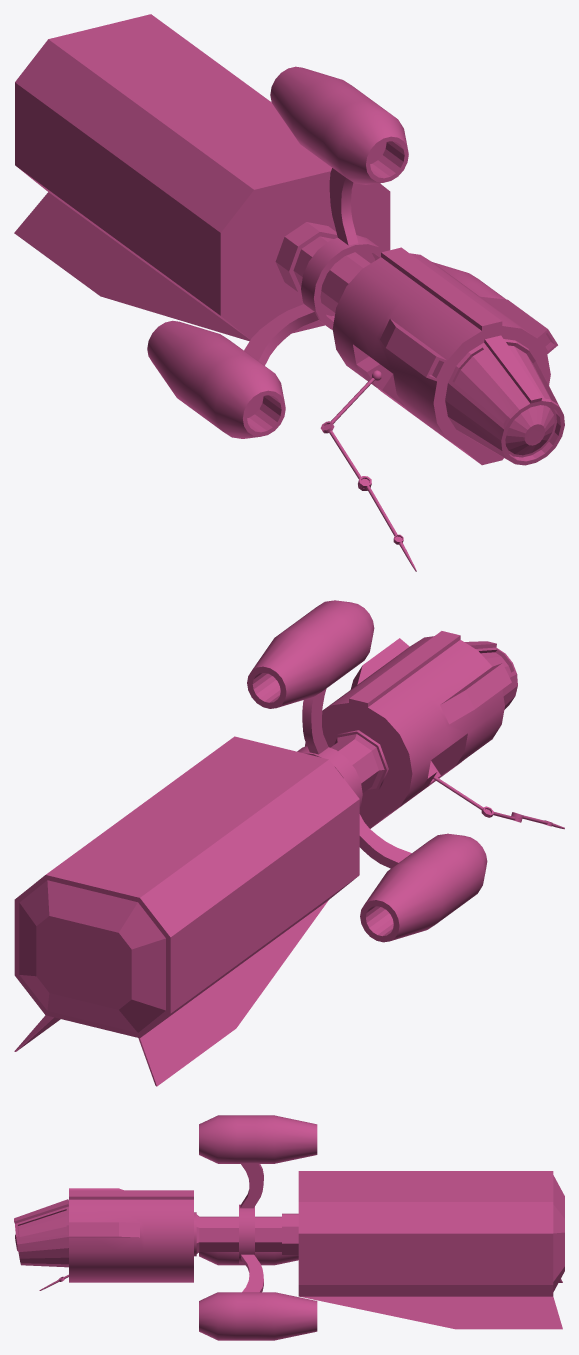
The model's file is textured_mining_ship.fbx.
3 renders of one model, top to bottom at view 1: azimuth 30°, elevation 25°; view 2: azimuth 150°, elevation 25°; view 3: azimuth 270°, elevation 25°, orthographic. The views are drawn at different scales.
Visible parts, largest first — view 1: mining:Cylinder005; view 2: mining:Cylinder005; view 3: mining:Cylinder005.
Boxes of the visible parts, bbox=[...] form: mining:Cylinder005: bbox=[14, 14, 564, 571]; mining:Cylinder005: bbox=[14, 600, 564, 1086]; mining:Cylinder005: bbox=[14, 1115, 564, 1340].
Bounding box in the file's own units: 170 × 168 × 412.
